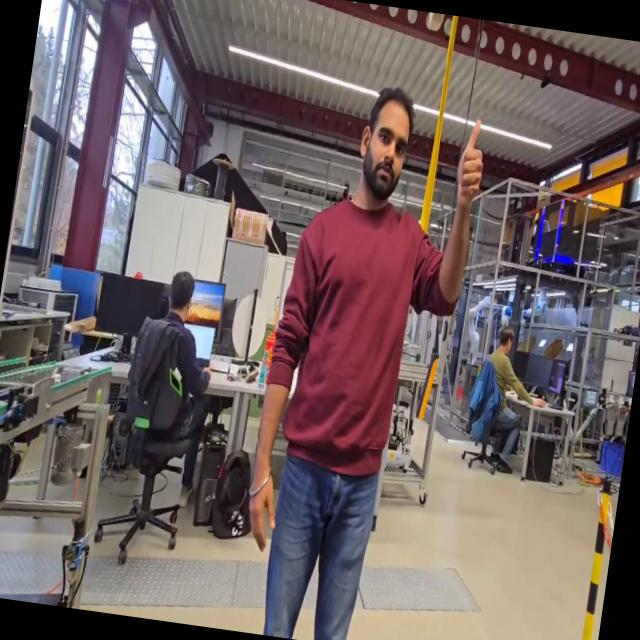thumbs_up: (448, 112, 493, 216)
